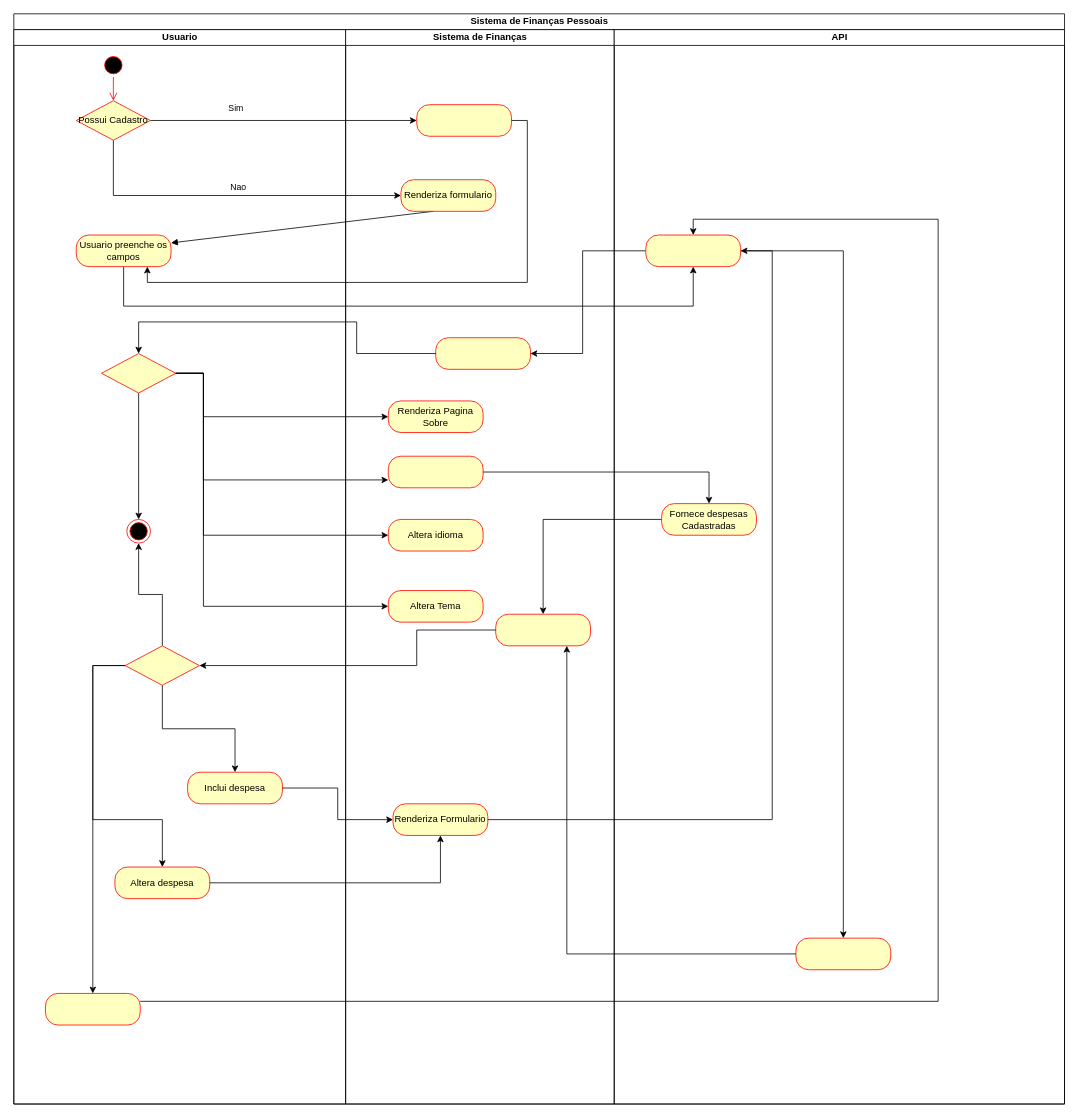
Some shapes in this 1078 by 1118 pixel diagram are drawn without their labels. The shapes that lost their labels are listed below. From the top down, each one's centre as x and y in pixels, then its label:
At (464,120): "Renderiza tela login".
At (693,250): "Valida os campos".
At (482,353): "Renderiza pagina Principal".
At (435,471): "Renderiza Pagina Fluxo de Caixa".
At (543,629): "Renderiza Despesas Cadastrads".
At (843,953): "Atualiza Banco de Dados".
At (92,1009): "Exclui despesa".
